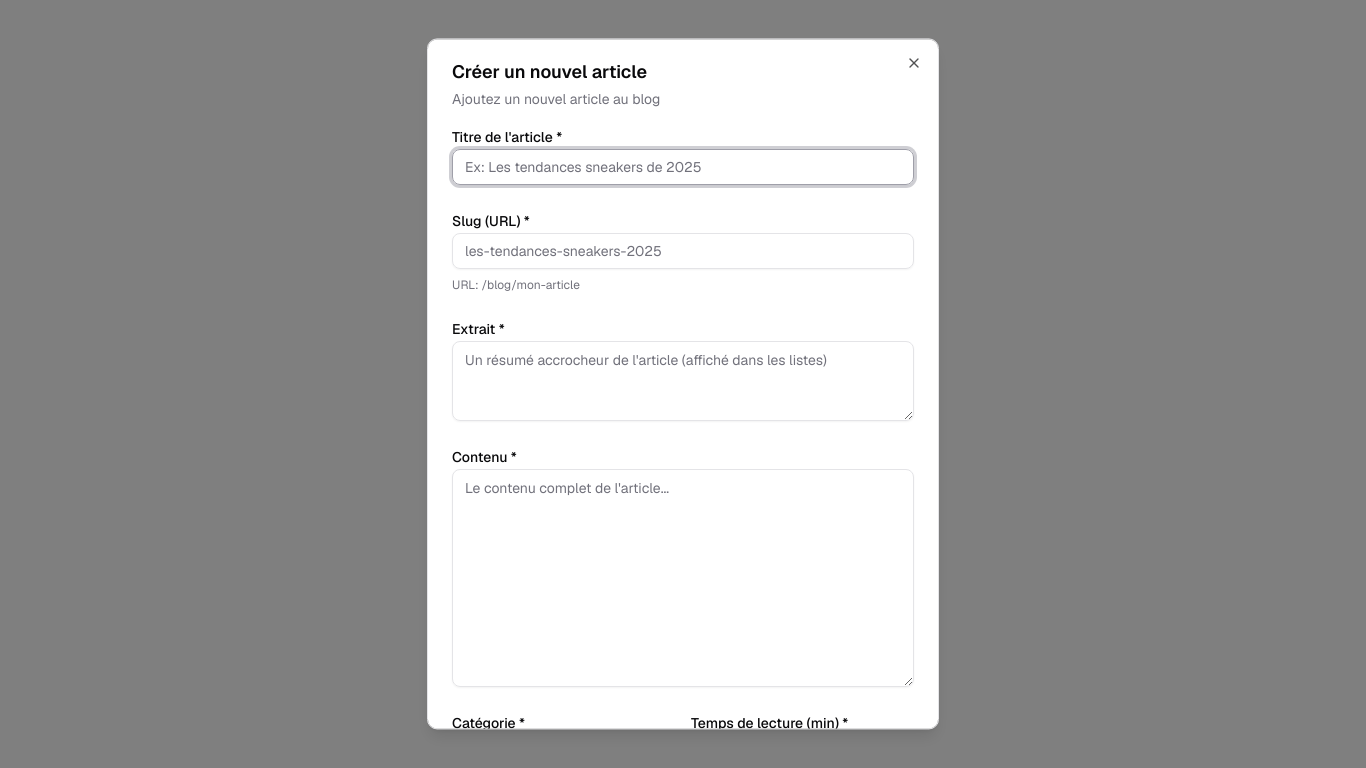
Test: BlogForm › Create Mode › shows validation error for short title
In the field labelled "Titre de l'article *": (683, 167) [452,149,914,185], type "Court"
(page scrolled)
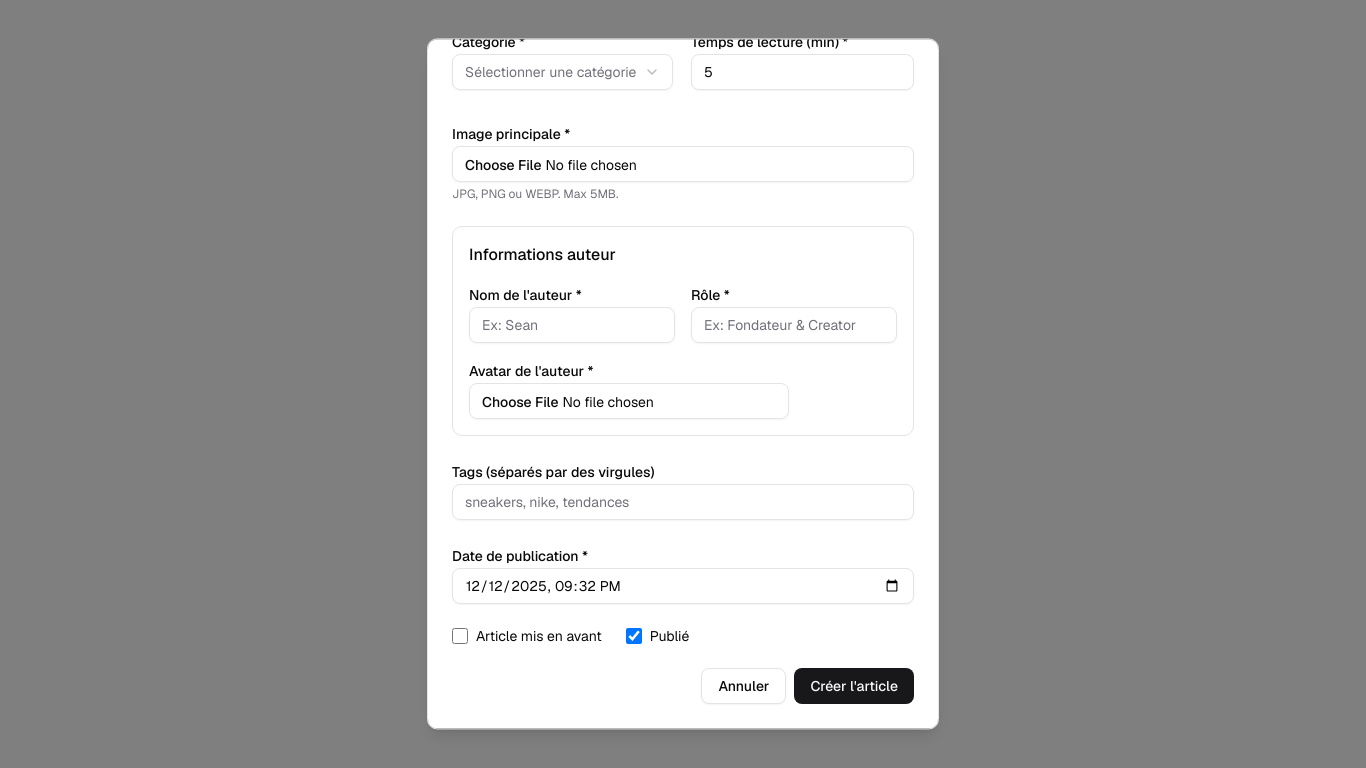
Click the button "Créer l'article": (854, 686) [794,668,914,704]
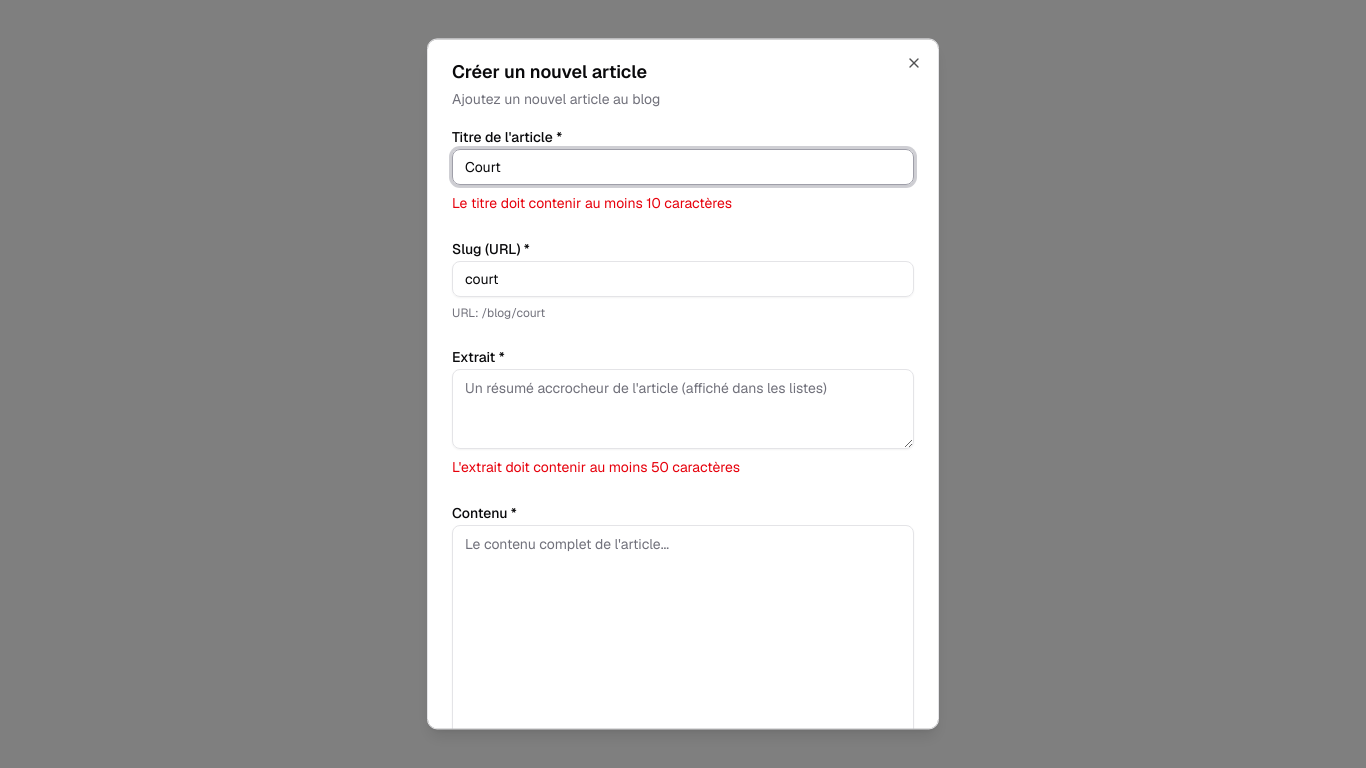
Expected: the text "Le titre doit contenir au moins 10 caractères" is shown, [452,194,732,212]
